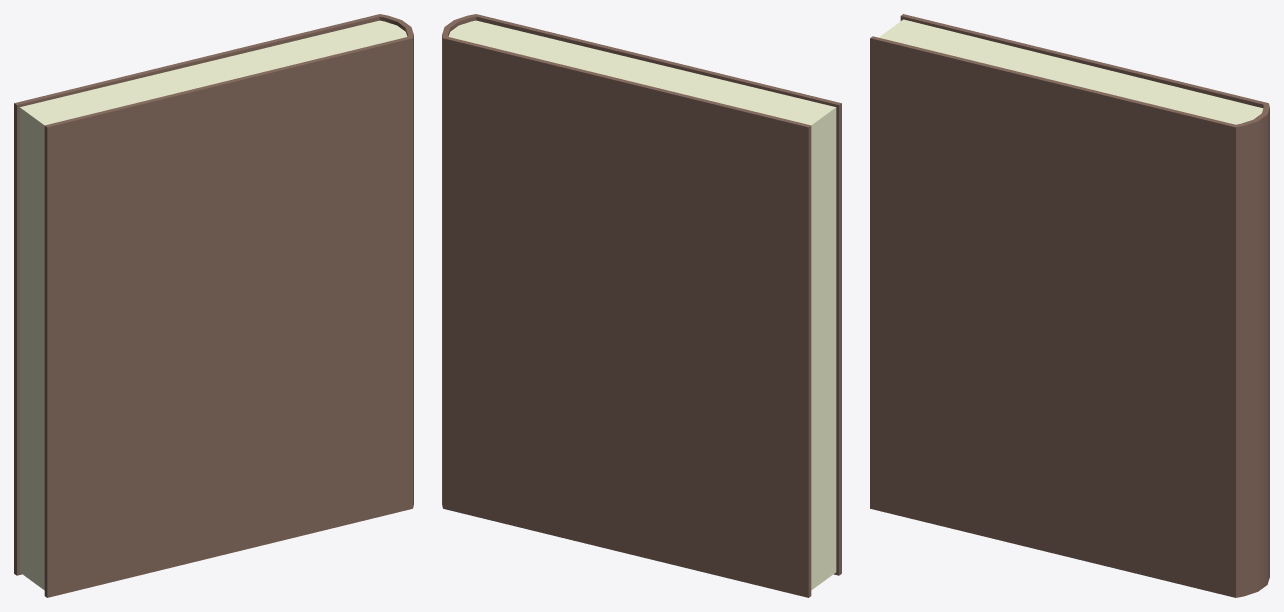
Rendered from newbook7.fbx.
The picture shows the model from 3 angles, left to right: view 1: azimuth 30°, elevation 25°; view 2: azimuth 150°, elevation 25°; view 3: azimuth 330°, elevation 25°; orthographic projection.
Visible parts, largest first — view 1: Book7; view 2: Book7; view 3: Book7.
Part boxes in pixels (left/top/right/bottom): Book7: left=14, top=14, right=413, bottom=597; Book7: left=442, top=14, right=841, bottom=597; Book7: left=870, top=14, right=1269, bottom=597.
Bounding box in the file's own units: 19.41 × 23.2 × 2.96.
